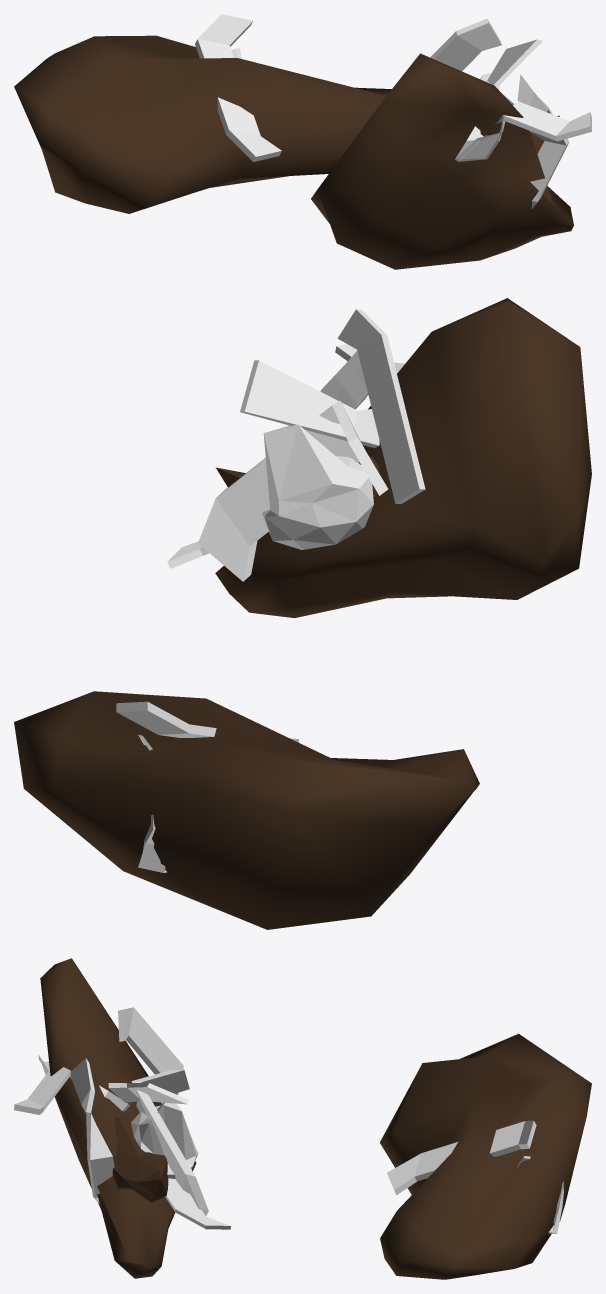
File: rubble exploded.fbx
3 views of the same model, one above another, from view 1: azimuth 30°, elevation 25°; view 2: azimuth 150°, elevation 25°; view 3: azimuth 270°, elevation 25° (orthographic). The views are drawn at different scales.
Visible parts, largest first — view 1: rubble exploded; view 2: rubble exploded; view 3: rubble exploded.
Boxes of the visible parts, x1=… form: rubble exploded: x1=14, y1=14, x2=591, y2=269; rubble exploded: x1=14, y1=298, x2=591, y2=929; rubble exploded: x1=14, y1=958, x2=591, y2=1279.
Size of the model in its own units: 2737 by 2122 by 3897.
